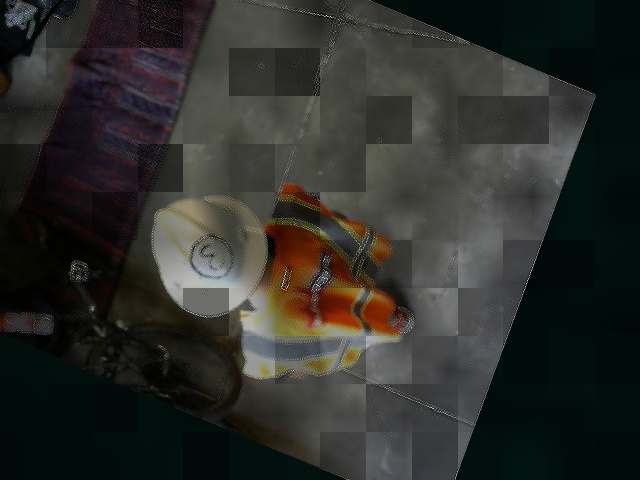three: (182, 227, 239, 285)
